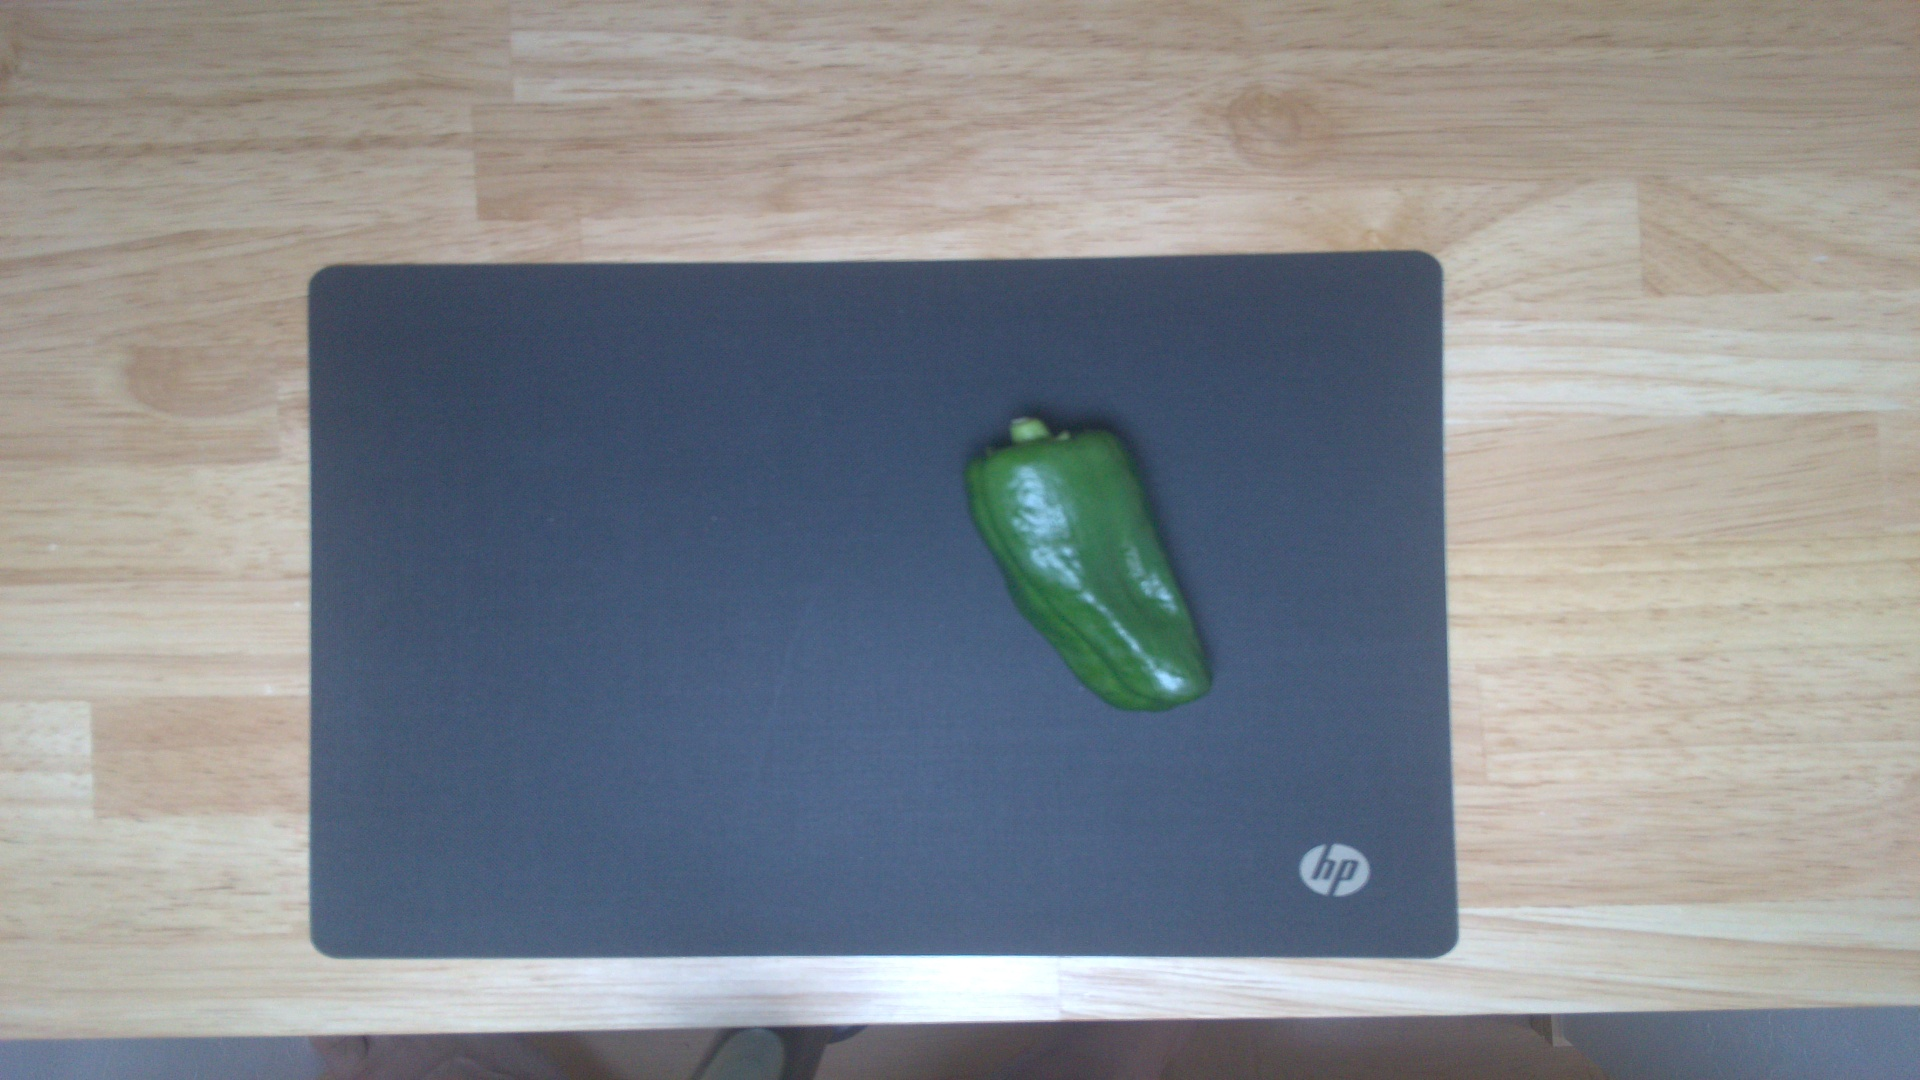Piman: (963, 409, 1217, 715)
